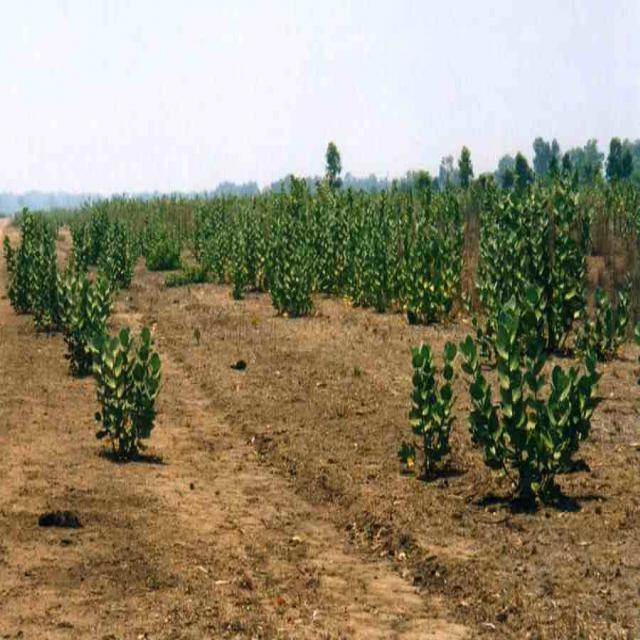Poisonous-Calatropis: (392, 338, 640, 539), (272, 184, 460, 327), (85, 327, 177, 471)
